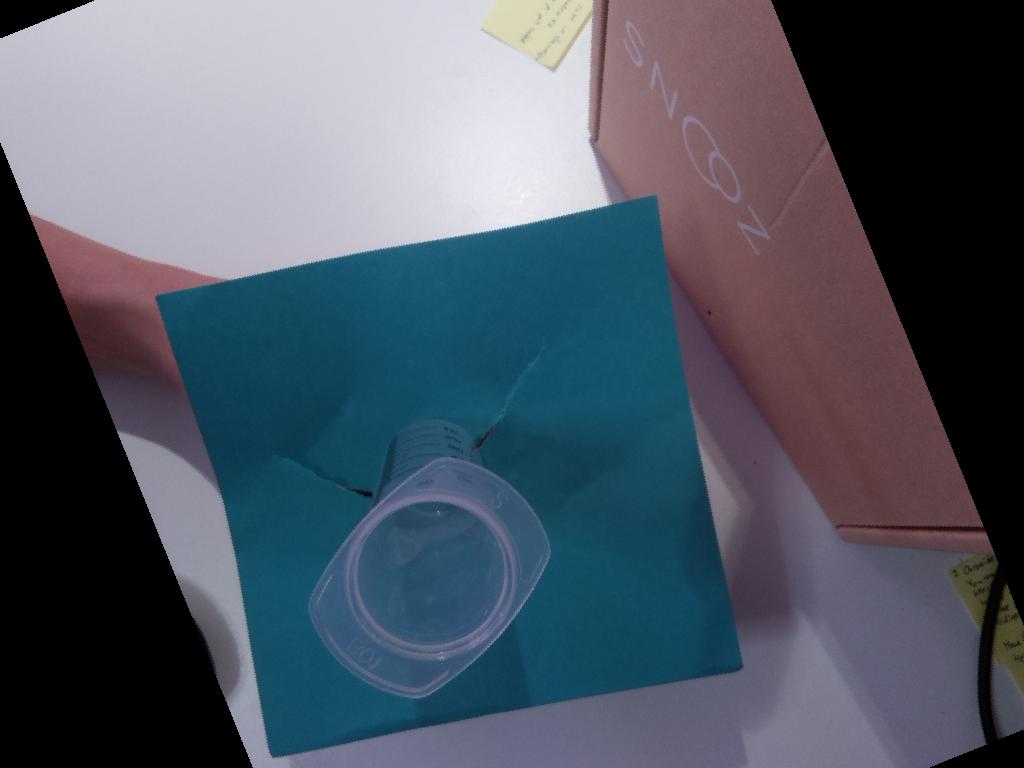clean: (305, 455, 554, 700)
